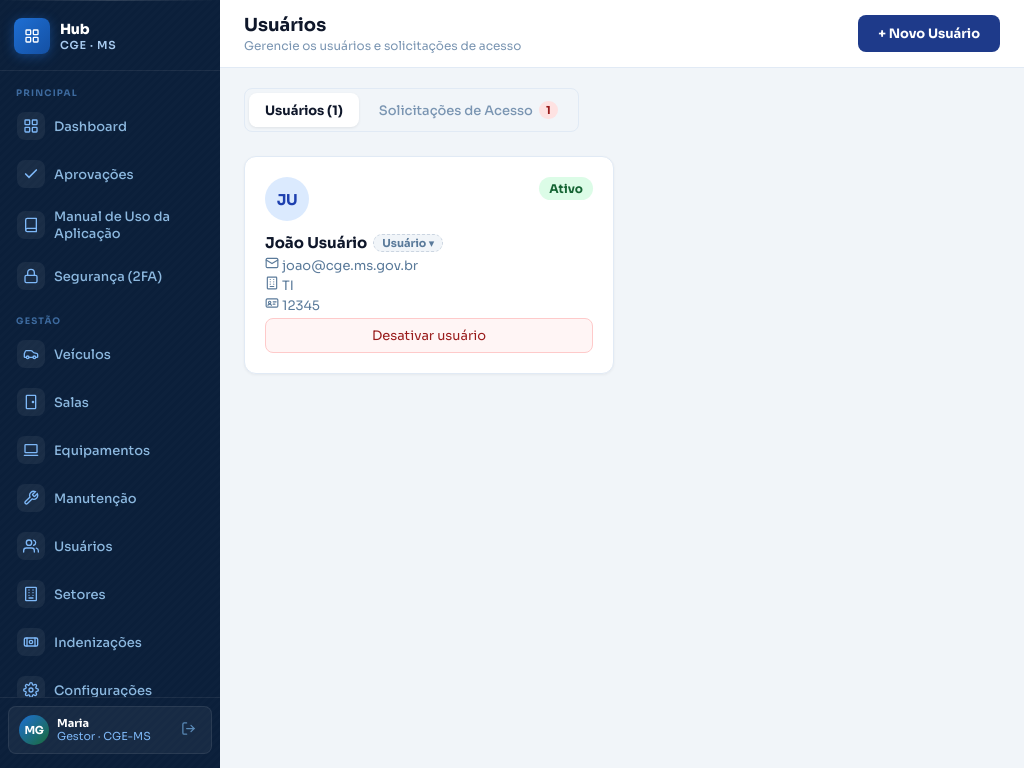
Test case: Usuarios — modal Novo Usuário › clicar Novo Usuário abre modal
Step 1. Click the button "+ Novo Usuário" → click(929, 34), box [858,15,1000,52]
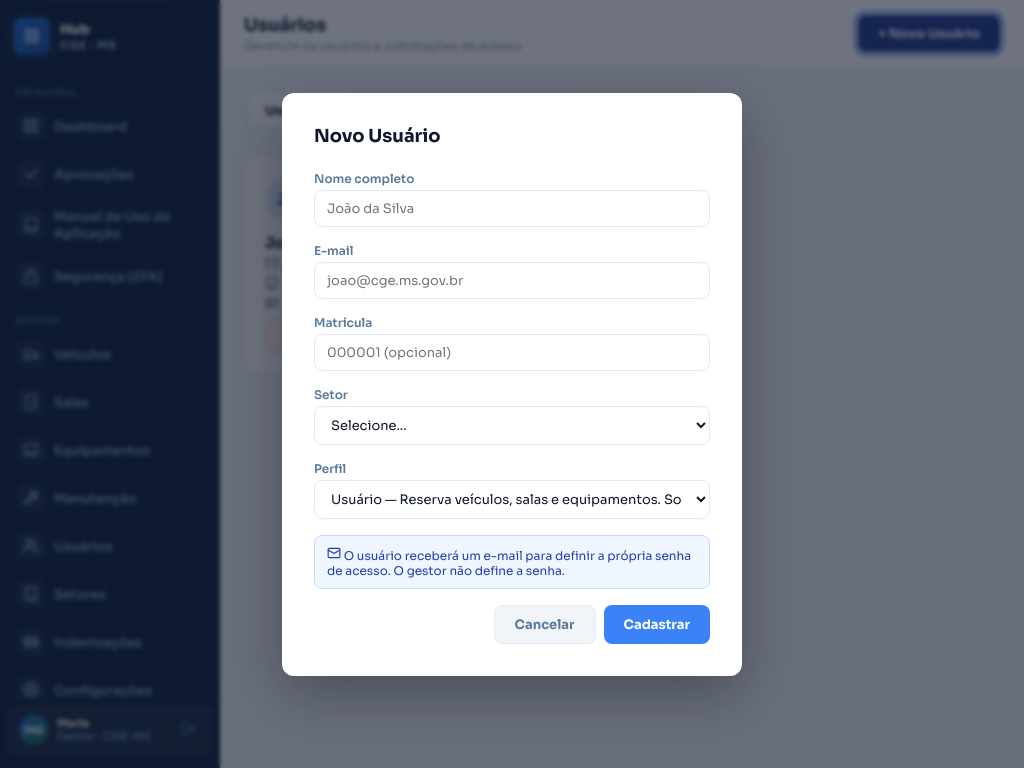
Expected: the heading "Novo Usuário" is shown, [314,124,440,146]
